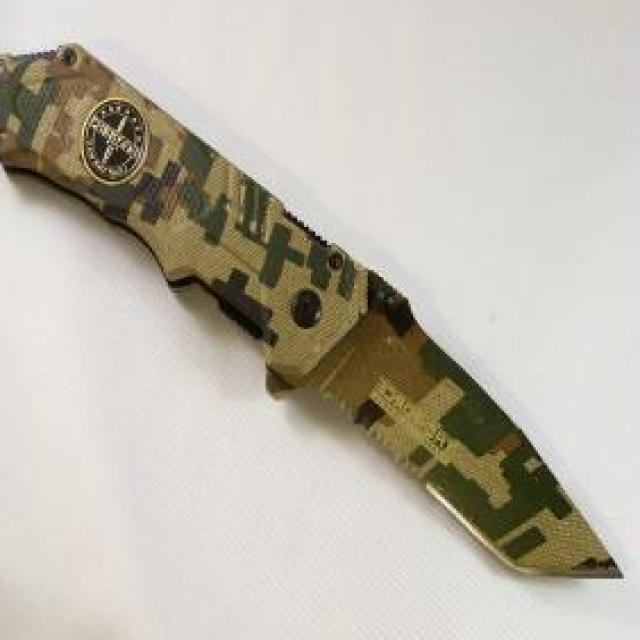knife: (272, 232, 634, 592)
